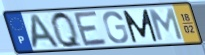A: (30, 13, 63, 51)
E: (72, 9, 110, 48)
G: (102, 10, 130, 45)
M: (121, 8, 160, 45), (147, 7, 185, 42)
Q: (49, 10, 85, 49)
